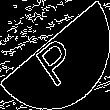P_NW: (29, 24, 81, 86)
